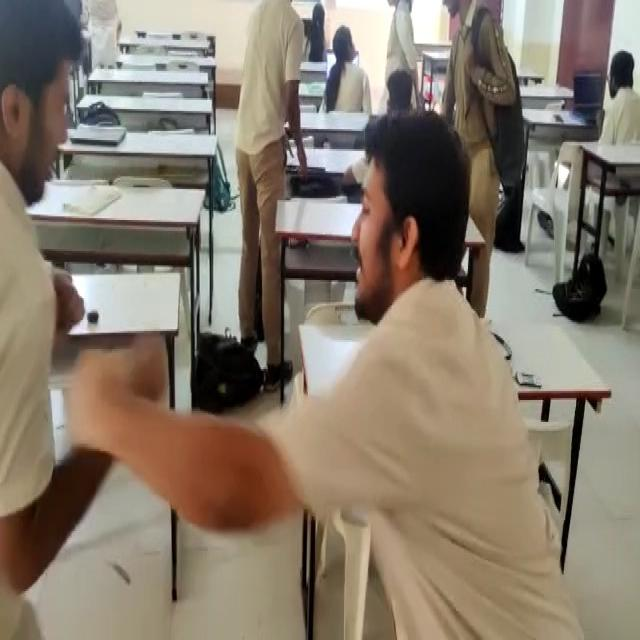fight: (0, 8, 487, 541)
